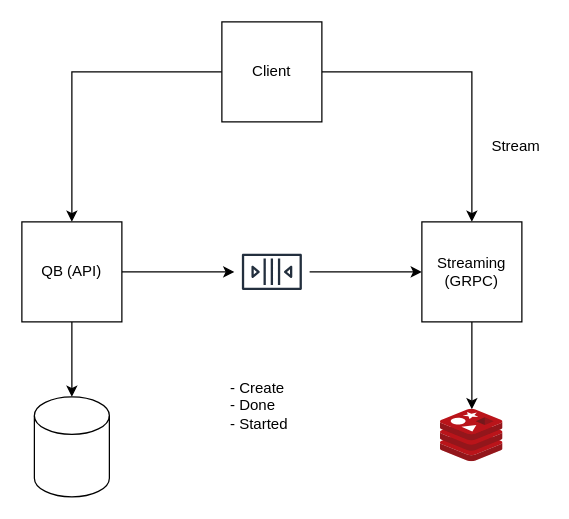
Some shapes in this 569 by 519 pixel diagram are drawn without their labels. The centre of each missing label's shape, as x and y in pixels:
PG: the point at 71,446
Queue: the point at 271,271
